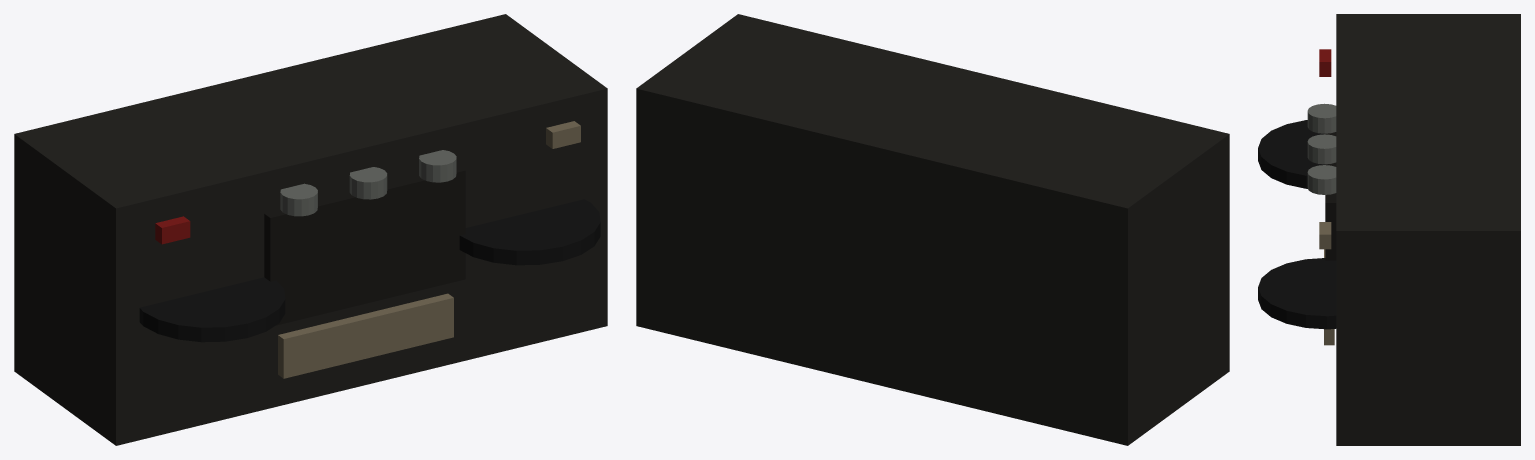
Rendered from minicadena_98.obj.
3 renders of one model, left to right at view 1: azimuth 30°, elevation 25°; view 2: azimuth 150°, elevation 25°; view 3: azimuth 270°, elevation 25°, orthographic. The views are drawn at different scales.
Parts seen in each view (by area): view 1: minicadena_98; view 2: minicadena_98; view 3: minicadena_98.
Boxes of the visible parts, x1=… form: minicadena_98: x1=14, y1=14, x2=607, y2=445; minicadena_98: x1=636, y1=14, x2=1229, y2=445; minicadena_98: x1=1258, y1=14, x2=1520, y2=445.
Size of the model in its own units: 0.78 by 0.36 by 0.399.
